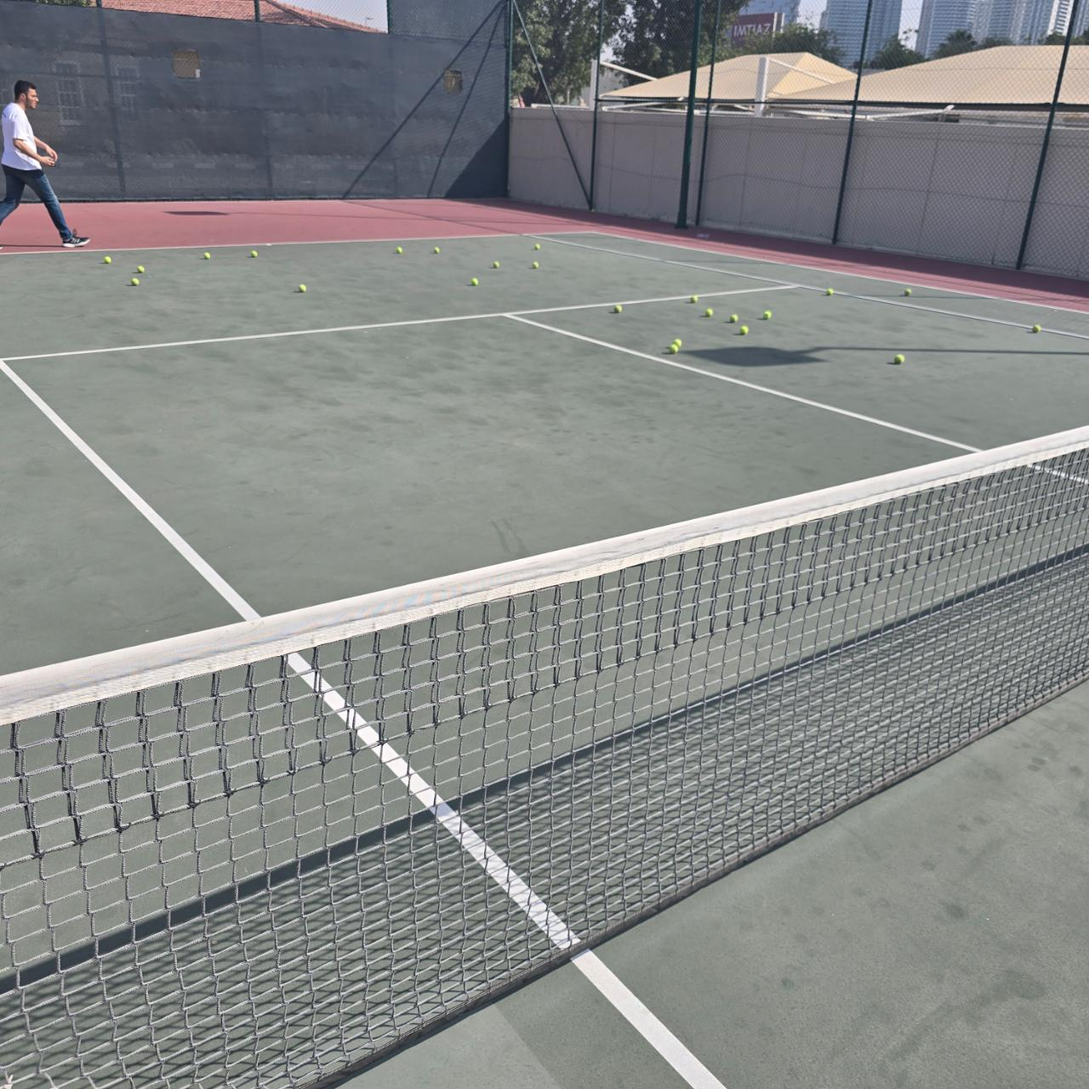tennis-ball: (894, 354, 905, 364), (763, 310, 773, 320), (739, 326, 750, 335), (668, 345, 678, 353), (613, 305, 623, 313), (673, 339, 682, 347), (472, 277, 479, 287), (730, 314, 738, 322), (1032, 325, 1040, 333), (299, 284, 306, 293), (433, 247, 441, 254), (251, 250, 258, 258), (131, 278, 139, 285), (826, 288, 833, 296), (706, 308, 713, 315), (691, 296, 698, 303), (532, 262, 539, 269), (534, 244, 541, 251), (204, 252, 211, 259), (137, 266, 144, 273), (105, 256, 111, 264), (904, 289, 910, 296), (493, 262, 499, 268), (397, 247, 403, 253), (591, 209, 594, 212)
